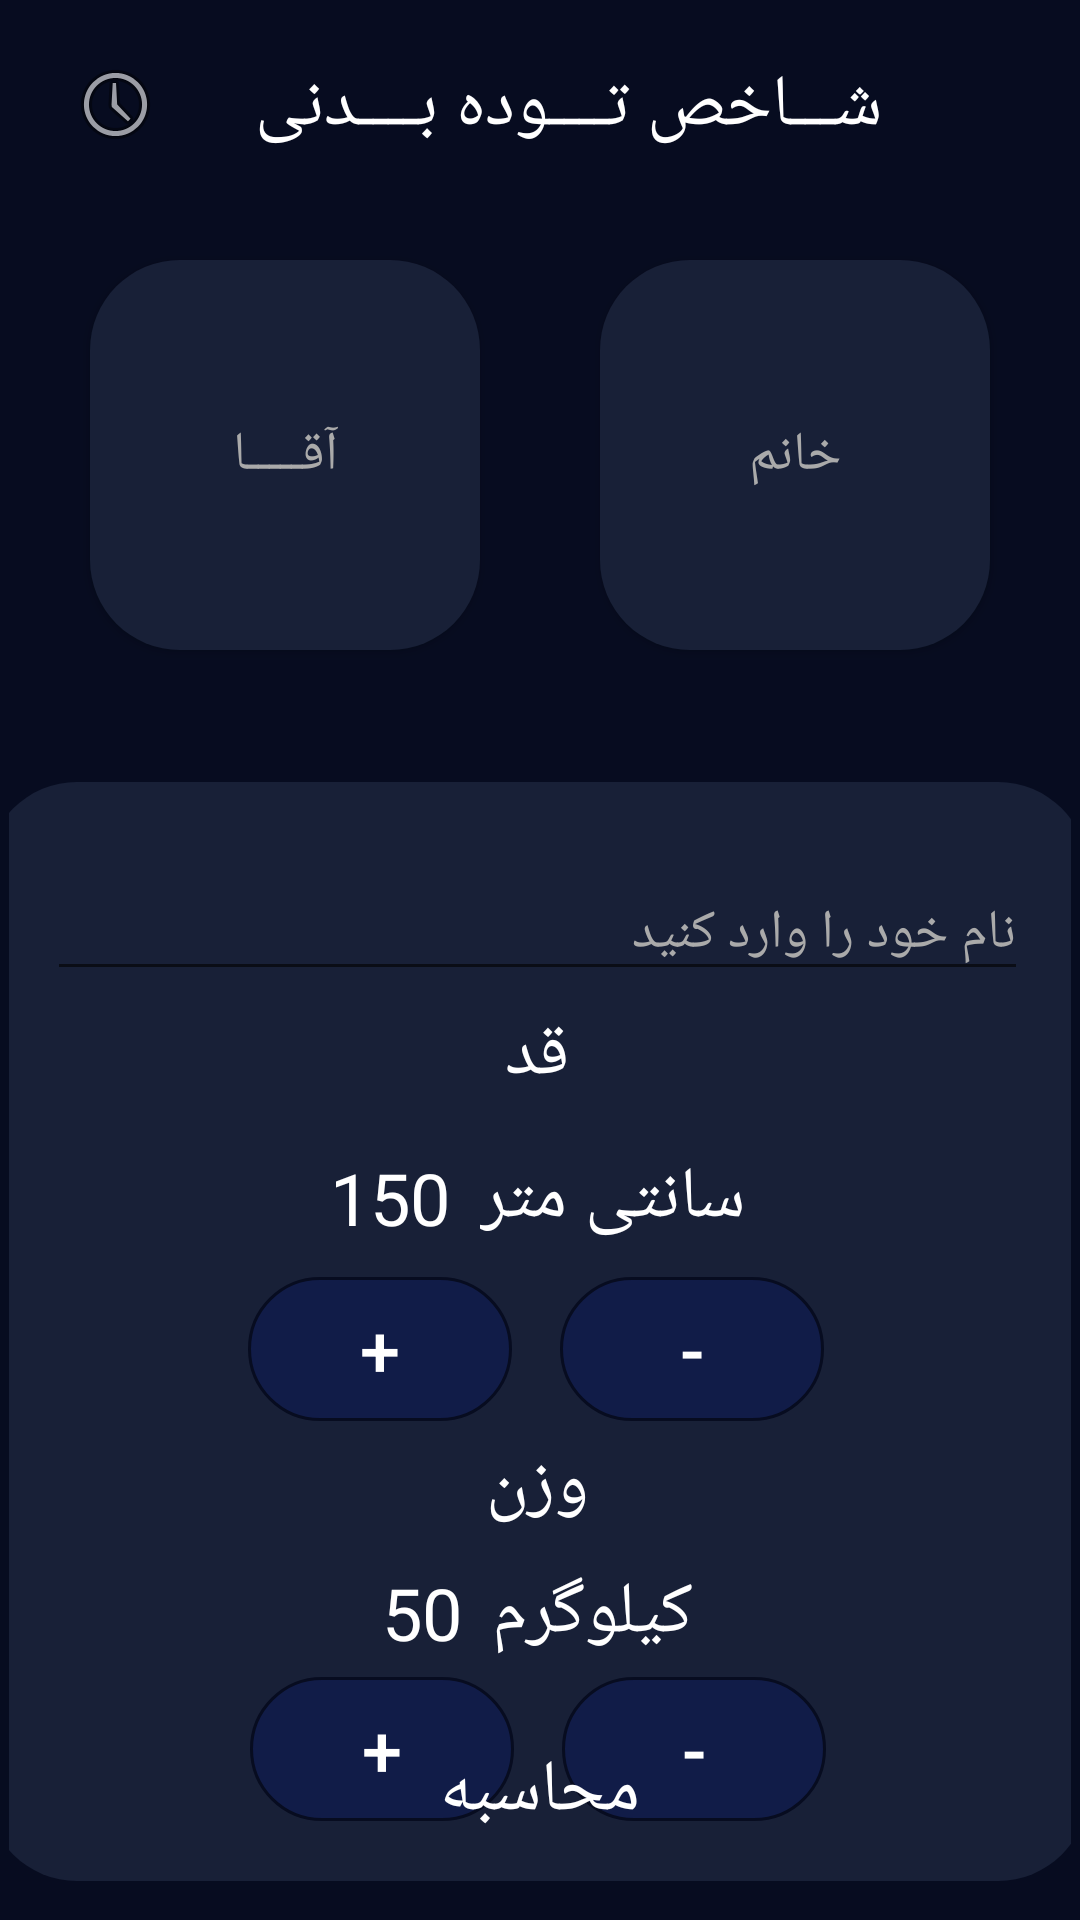

Where icons sit on this 1080px×1920px app screen, as (x1, y1, x2, y2):
recent history: (84, 73, 147, 136)
